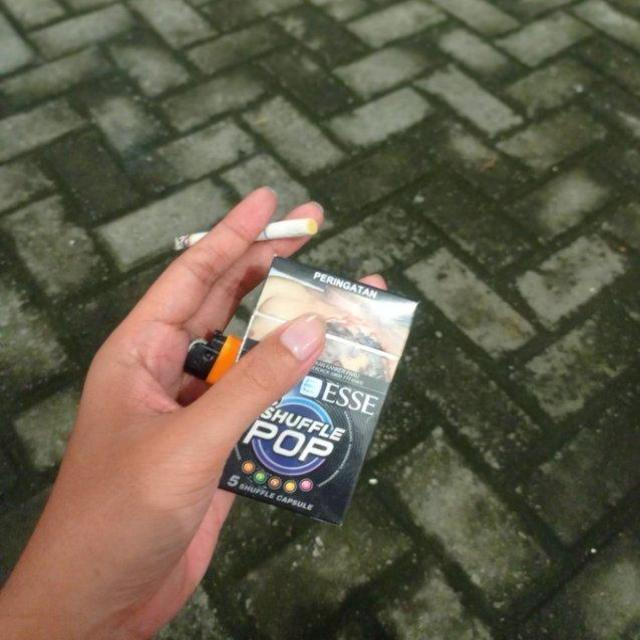rokok: (168, 219, 324, 245)
